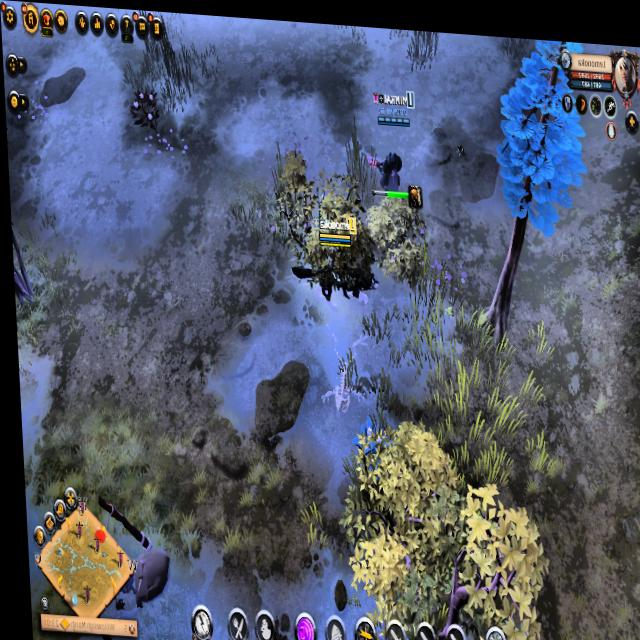fiber tier 4: (128, 84, 160, 137)
